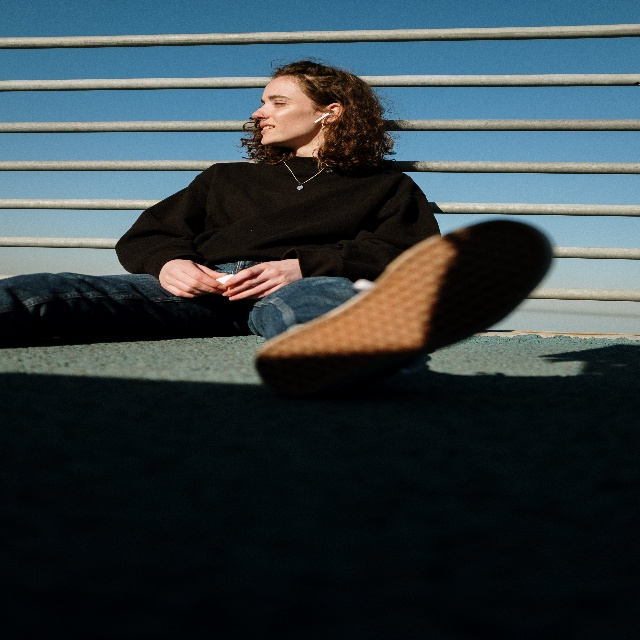Sin_guantes: (222, 258, 296, 301), (158, 259, 229, 298)
